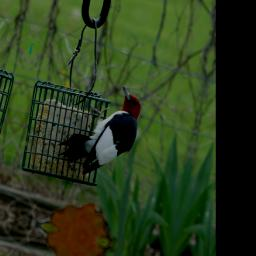Woodpecker: (53, 72, 145, 186)
